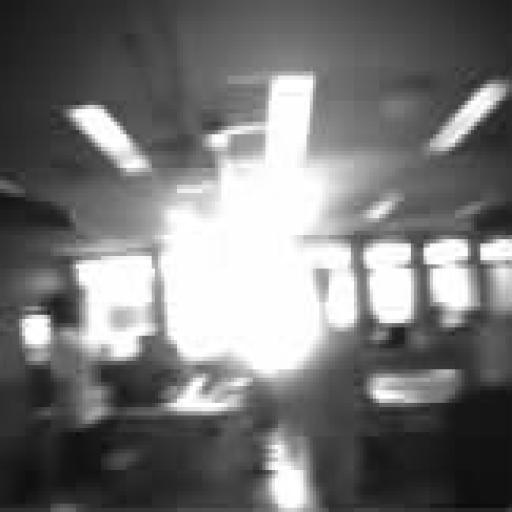human: (43, 296, 100, 512)
